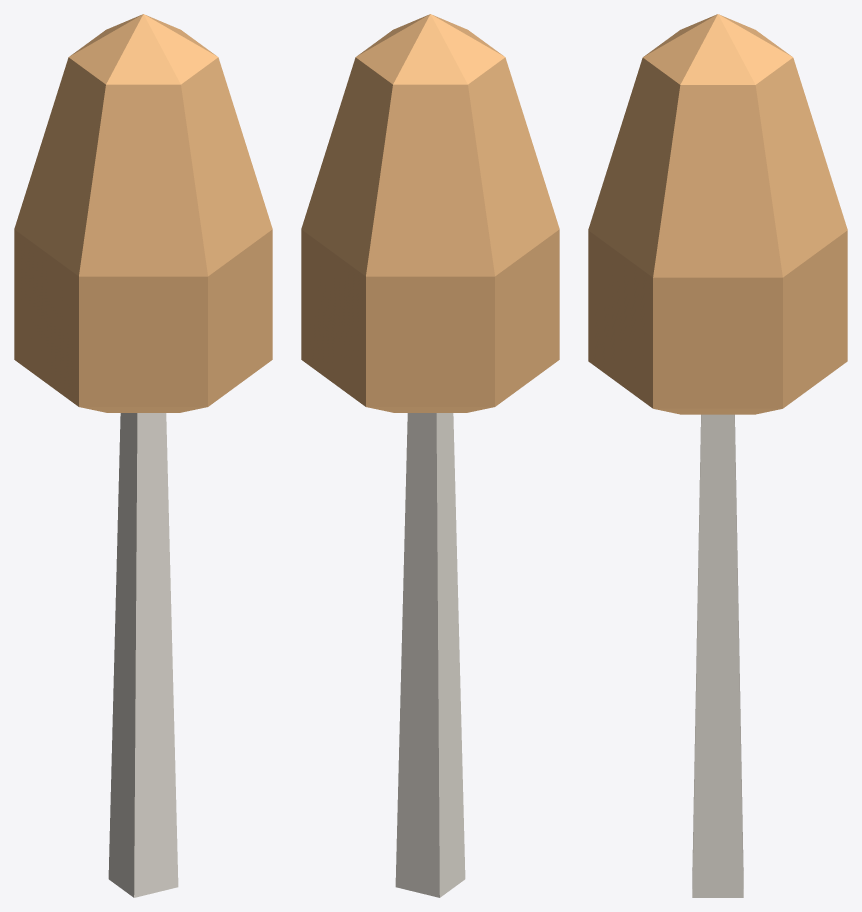
Rendered from tree_simple_fall.glb.
The picture shows the model from 3 angles, left to right: view 1: azimuth 30°, elevation 25°; view 2: azimuth 150°, elevation 25°; view 3: azimuth 270°, elevation 25°; orthographic projection.
Parts seen in each view (by area): view 1: tree_simple_fall; view 2: tree_simple_fall; view 3: tree_simple_fall.
Boxes of the visible parts, x1,y1,x2,y2 form: tree_simple_fall: (14, 14, 272, 897); tree_simple_fall: (301, 14, 559, 897); tree_simple_fall: (588, 14, 847, 897).
Bounding box in the file's own units: 0.3546 × 1.52 × 0.4095.
